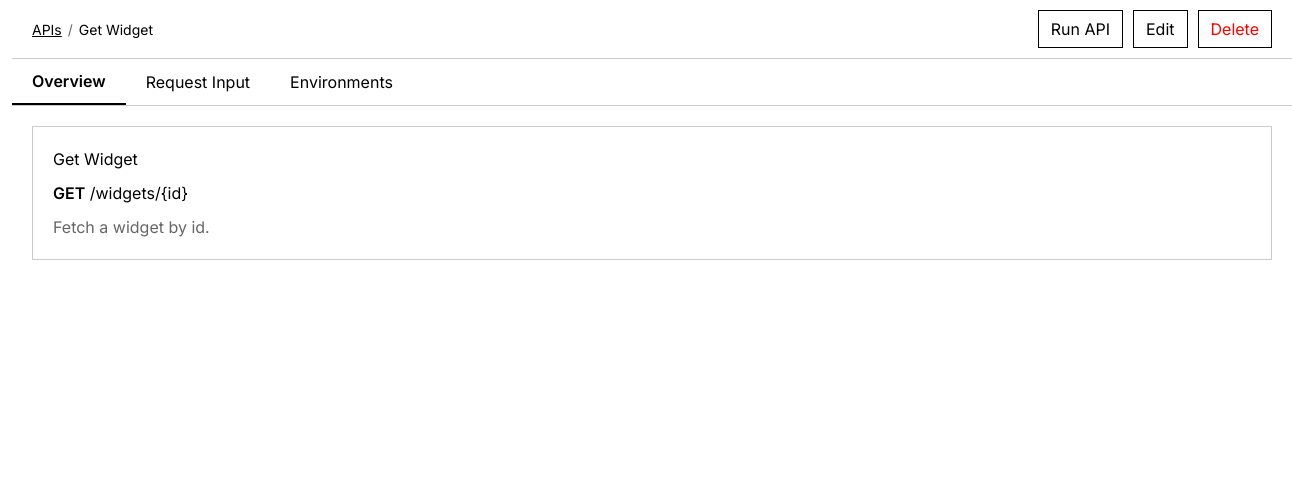
Scenario: ApiDetailScreen — tabs › still renders the existing Environments tab content (non-regression)
Check: the text "Fetch a widget by id." is shown, box [53, 217, 210, 237]
What coordinates should you click on to do the following:
click the button "Environments"
I would click on:
 (342, 82)
Its box is [270, 59, 413, 105].
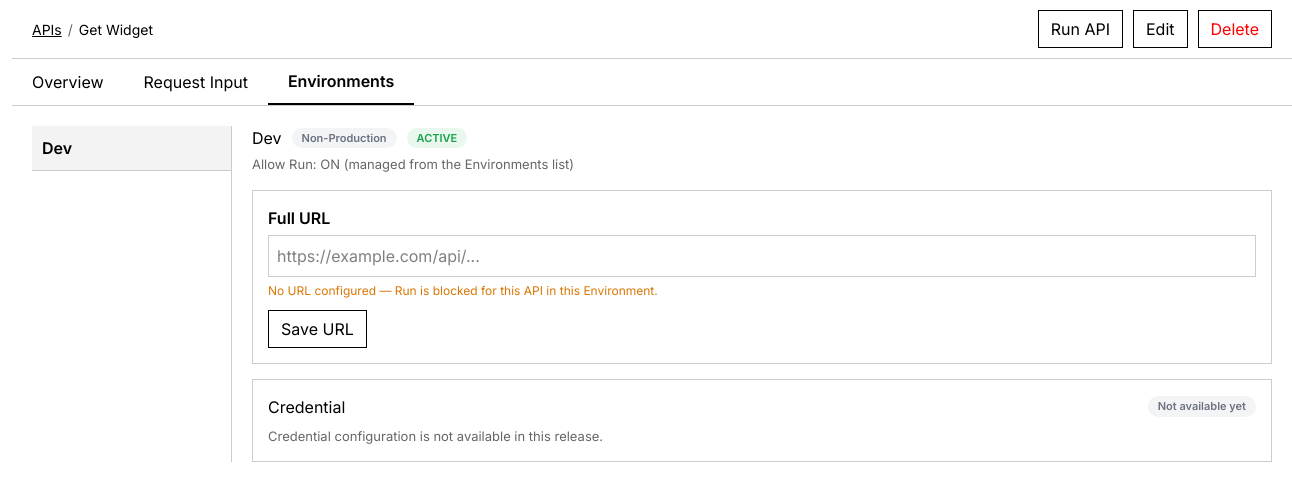
Check: the text "Full URL" is shown, box [268, 208, 330, 228]
